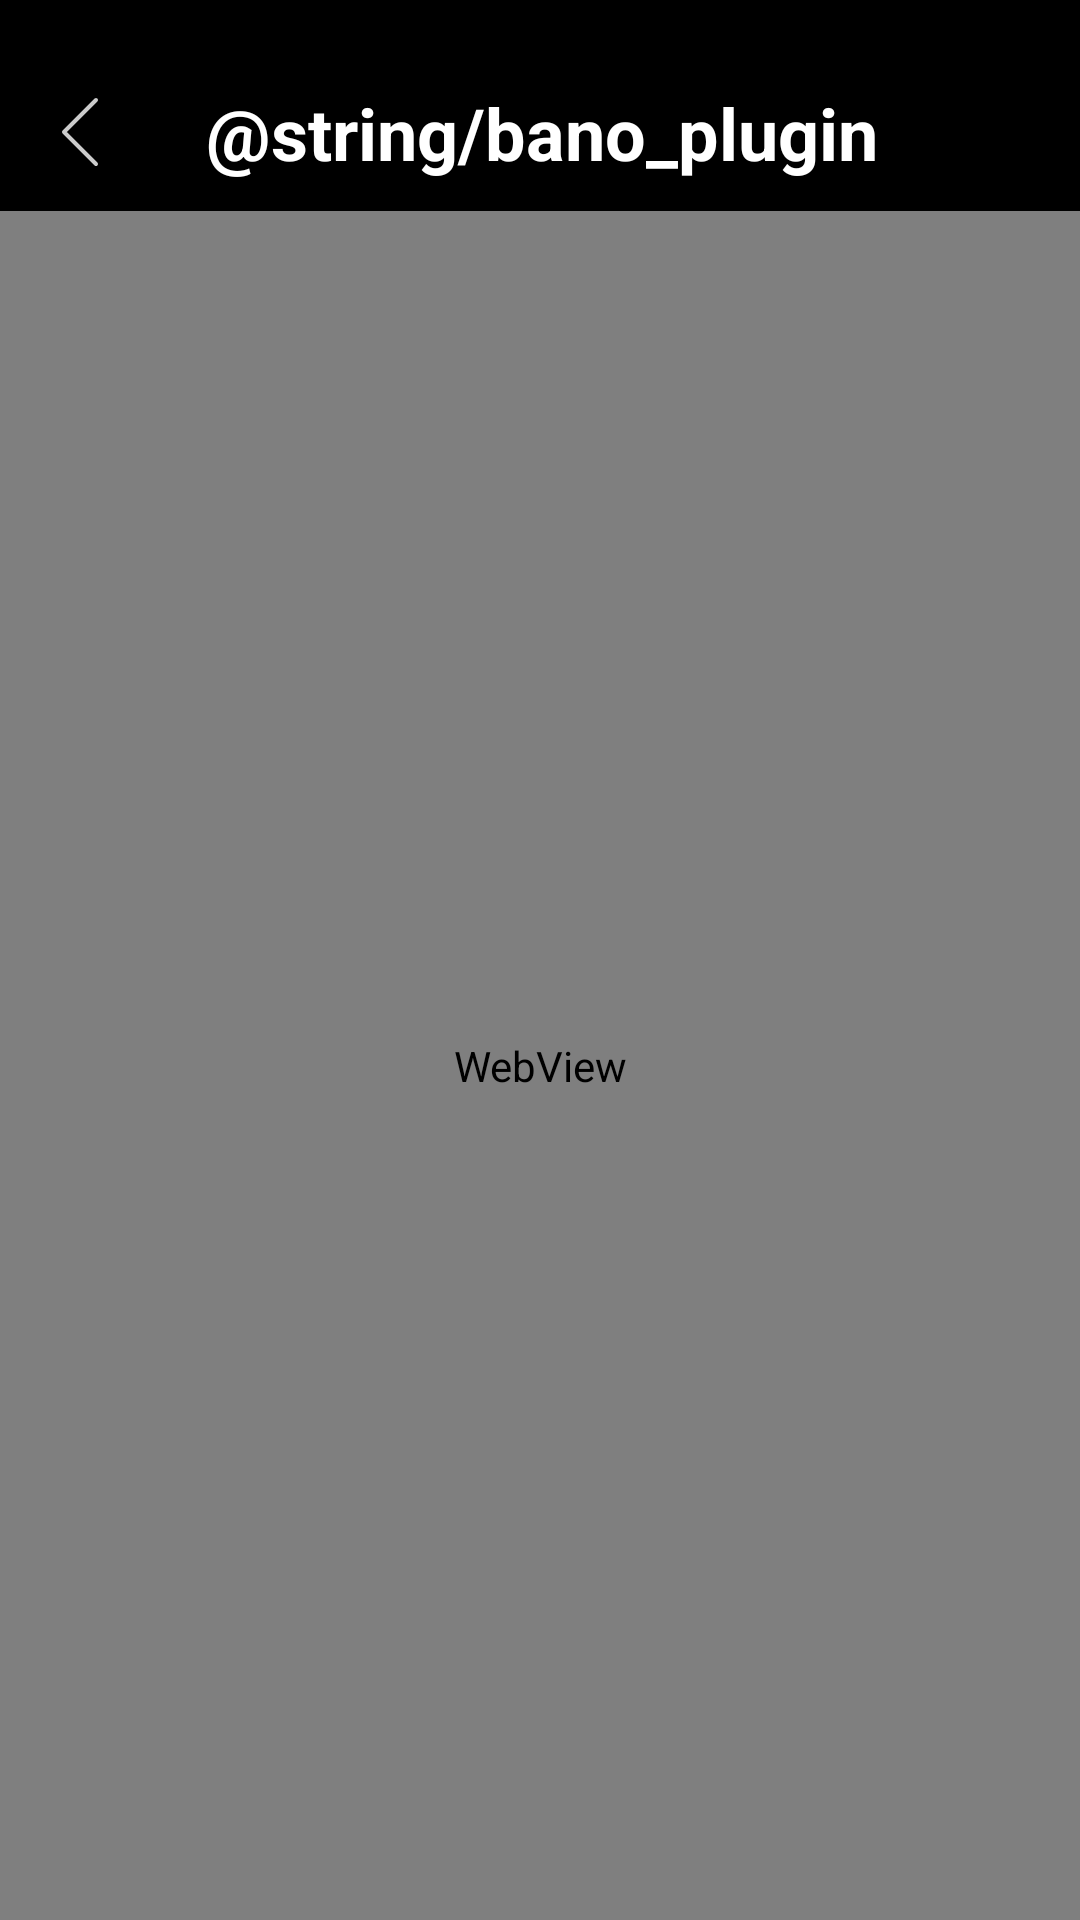

Icon bounding boxes for this 1080 × 1920 phone screenshot, format region(x1, y1, x2, y2):
chevron left: region(62, 98, 98, 166)
